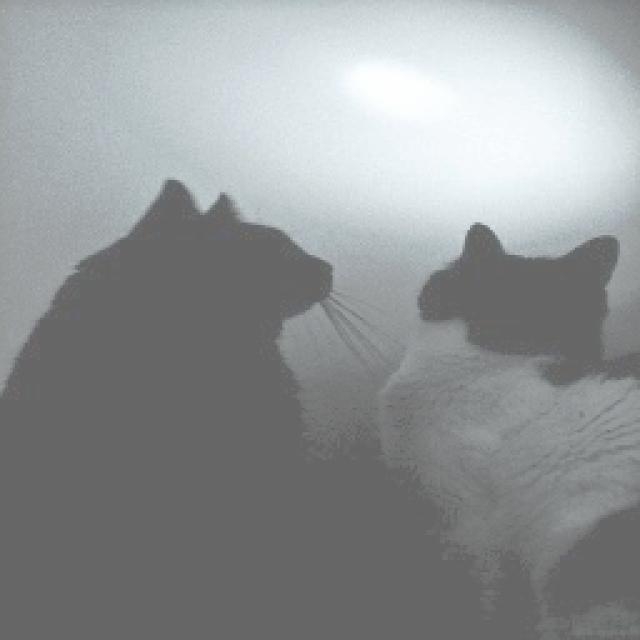cat: (0, 174, 375, 640), (383, 202, 640, 640)
